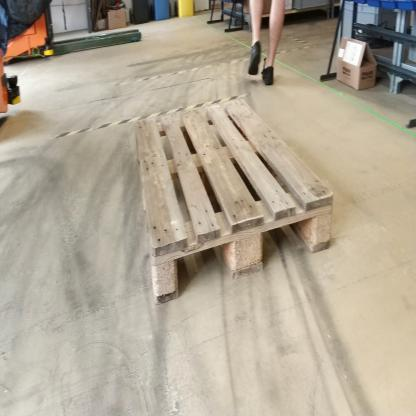BoxFace: (132, 93, 338, 315)
